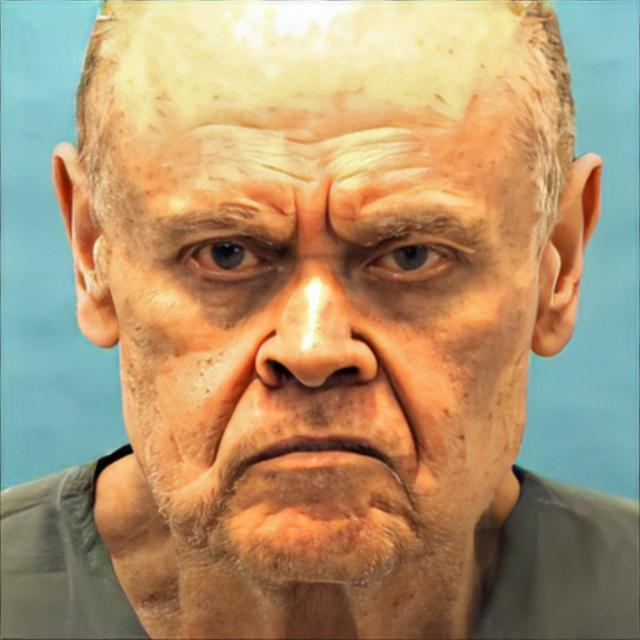anger: (112, 54, 526, 599)
